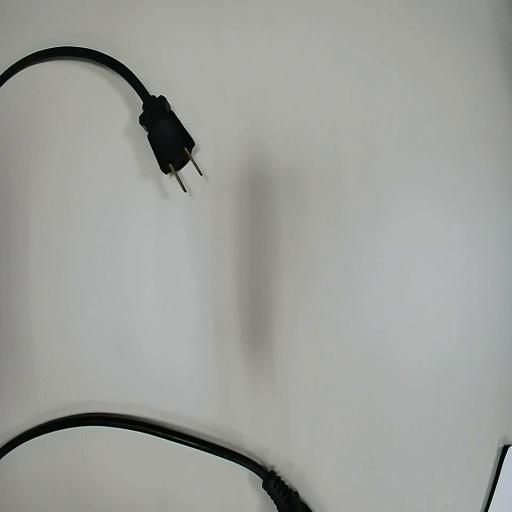wire: (0, 413, 311, 511), (0, 47, 193, 172)
